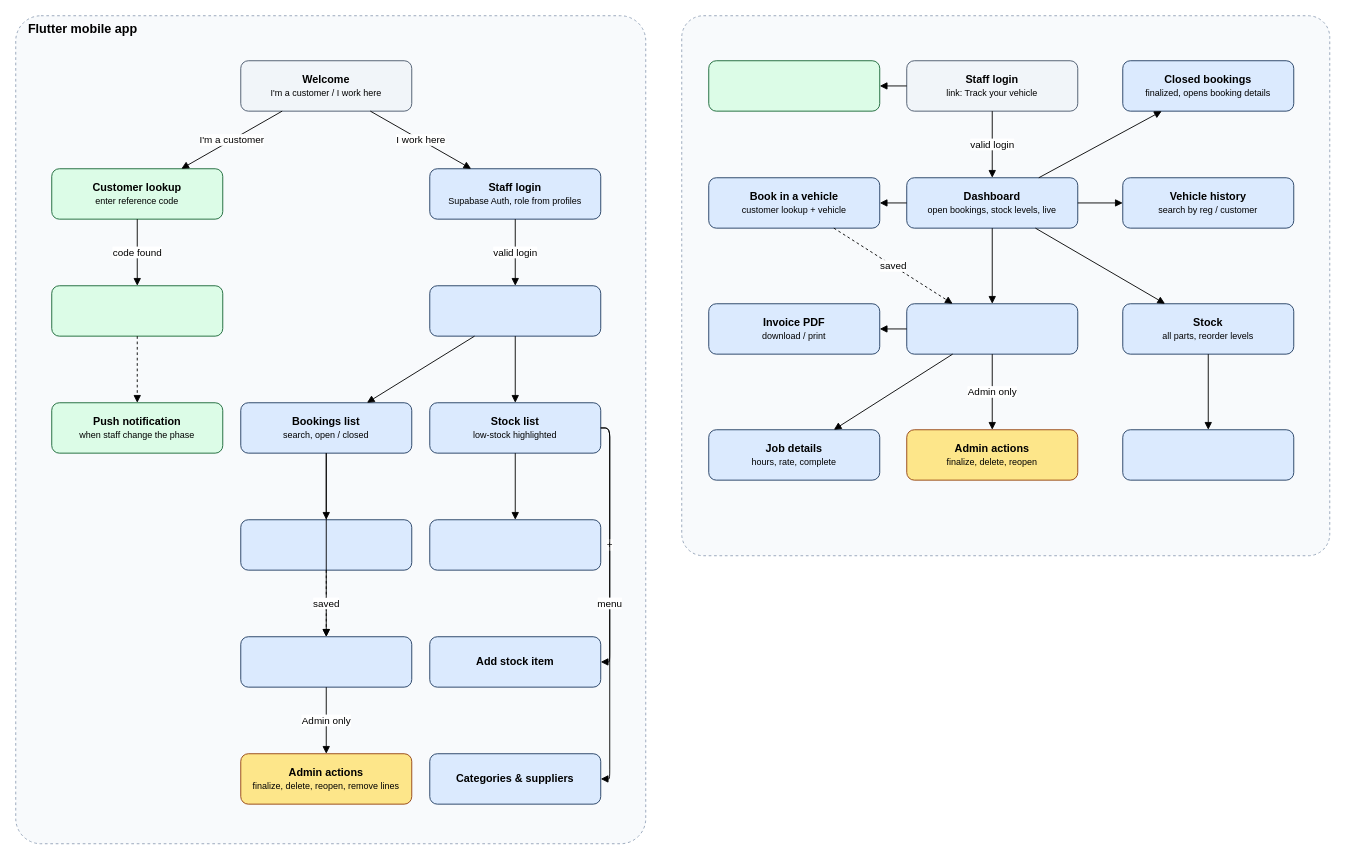
This 1346x860 diagram has some shape labels left out. The box of each missing label's shape, as (x1, y1, x2, y2) in pixels:
Add a part category, supplier, prices: (1122, 429, 1294, 480)
ASP.NET web app: (681, 15, 1330, 556)
Book in a vehicle customer + vehicle form: (240, 519, 412, 570)
Booking details jobs, parts, totals, phase: (906, 303, 1078, 354)
Booking details phase, parts, labour, invoice: (240, 636, 412, 687)
Home signed in as Admin / Mechanic: (429, 285, 601, 336)
Stock item detail restock, movements: (429, 519, 601, 570)
Track status 5-step timeline, pull to refresh: (51, 285, 223, 336)
Track your vehicle public /Track ("Not staff?" link): (708, 60, 880, 111)
